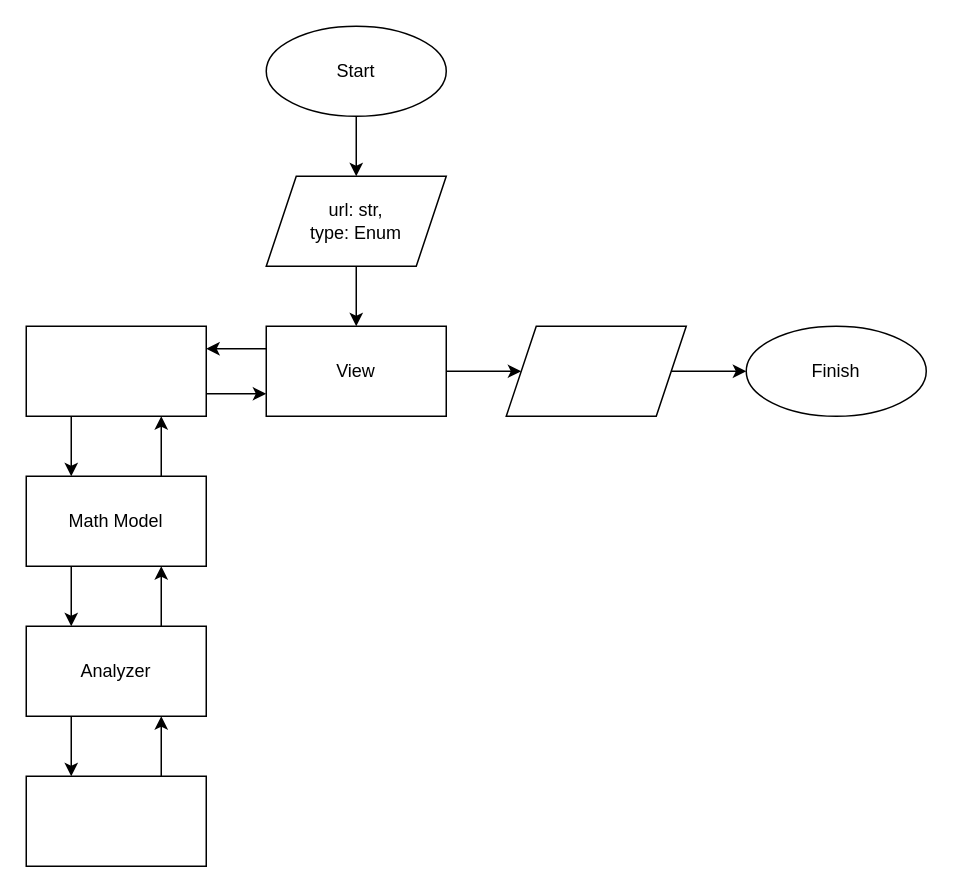
The diagram is 953 pixels wide and 893 high, and some of its shapes have lost their labels. The shapes that lost their labels are listed below. From the top down, each one's box as (x1, y1, x2, y2) in pixels, then its label:
(25, 325, 206, 416): Analytics
(505, 325, 686, 416): Show web-page
(25, 775, 206, 866): Parser
